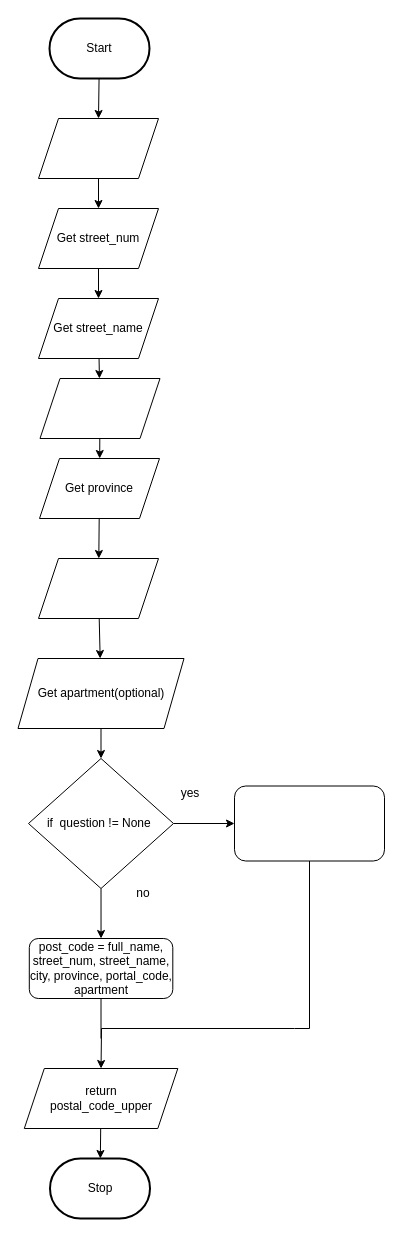
Some shapes in this 402 by 1236 pixel diagram are drawn without their labels. The shapes that lost their labels are listed below. From the top down, each one's centre as x and y in pixels, then its label:
the point at 98,148: Get full_name
the point at 99,408: Get city
the point at 98,588: Get postal_code
the point at 309,823: post_code = full_name, street_num, street_name, city, province, portal_code,
